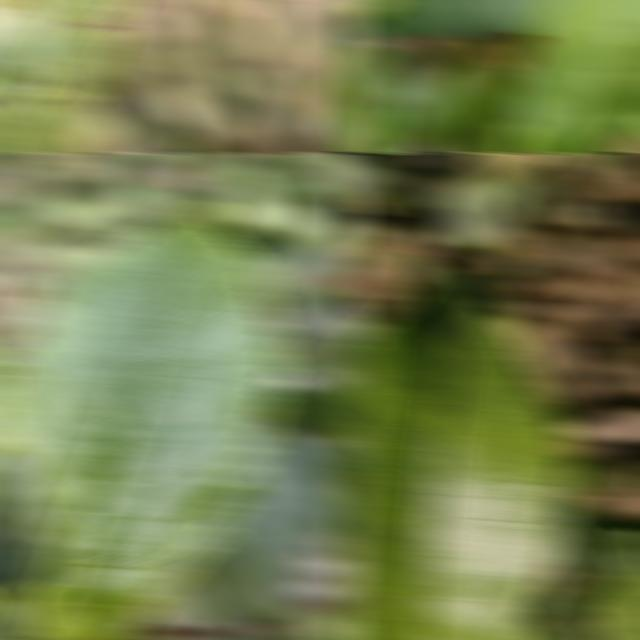Leaf: (0, 202, 289, 640), (343, 256, 577, 640), (181, 421, 337, 625), (0, 0, 140, 154), (511, 0, 640, 154), (562, 499, 640, 640), (440, 30, 509, 154), (346, 0, 561, 39), (343, 44, 396, 154), (256, 245, 338, 309), (266, 381, 361, 435), (291, 301, 361, 367), (468, 152, 551, 185), (0, 595, 39, 640)
